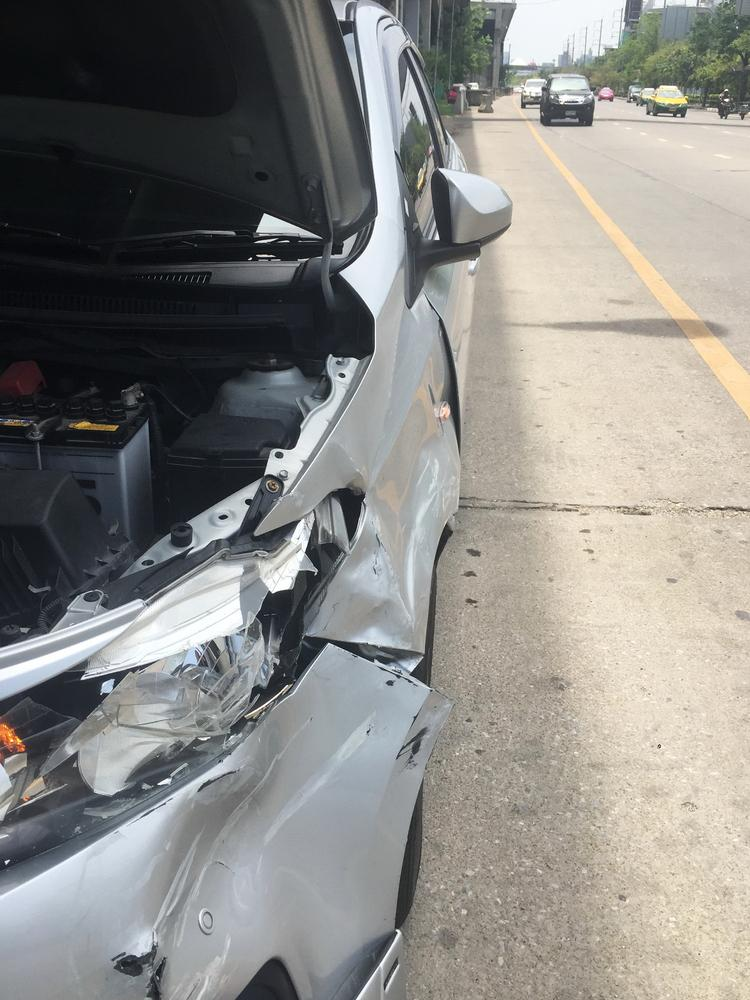crack: (115, 943, 170, 1000)
dent: (142, 696, 344, 999), (341, 407, 445, 643)
lamp broken: (0, 489, 364, 895)
scratch: (401, 716, 434, 775)
